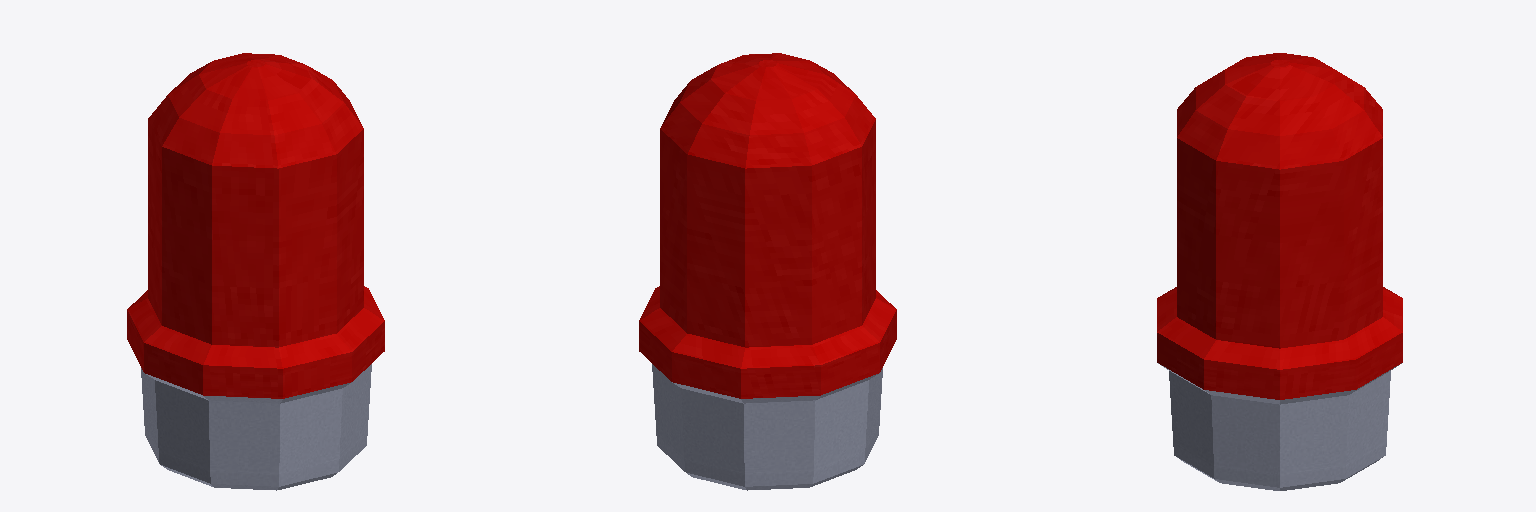
3 renders of one model, left to right at view 1: azimuth 30°, elevation 25°; view 2: azimuth 150°, elevation 25°; view 3: azimuth 270°, elevation 25°, orthographic.
Parts seen in each view (by area): view 1: bjq_red_2; view 2: bjq_red_2; view 3: bjq_red_2.
Part boxes in pixels (x1,y1,x2,y2): bjq_red_2: (127, 53, 384, 490); bjq_red_2: (639, 53, 896, 490); bjq_red_2: (1157, 53, 1402, 490).
Size of the model in its own units: 7.18 by 11.77 by 6.83.
Materials: 4 (3 with a texture image).